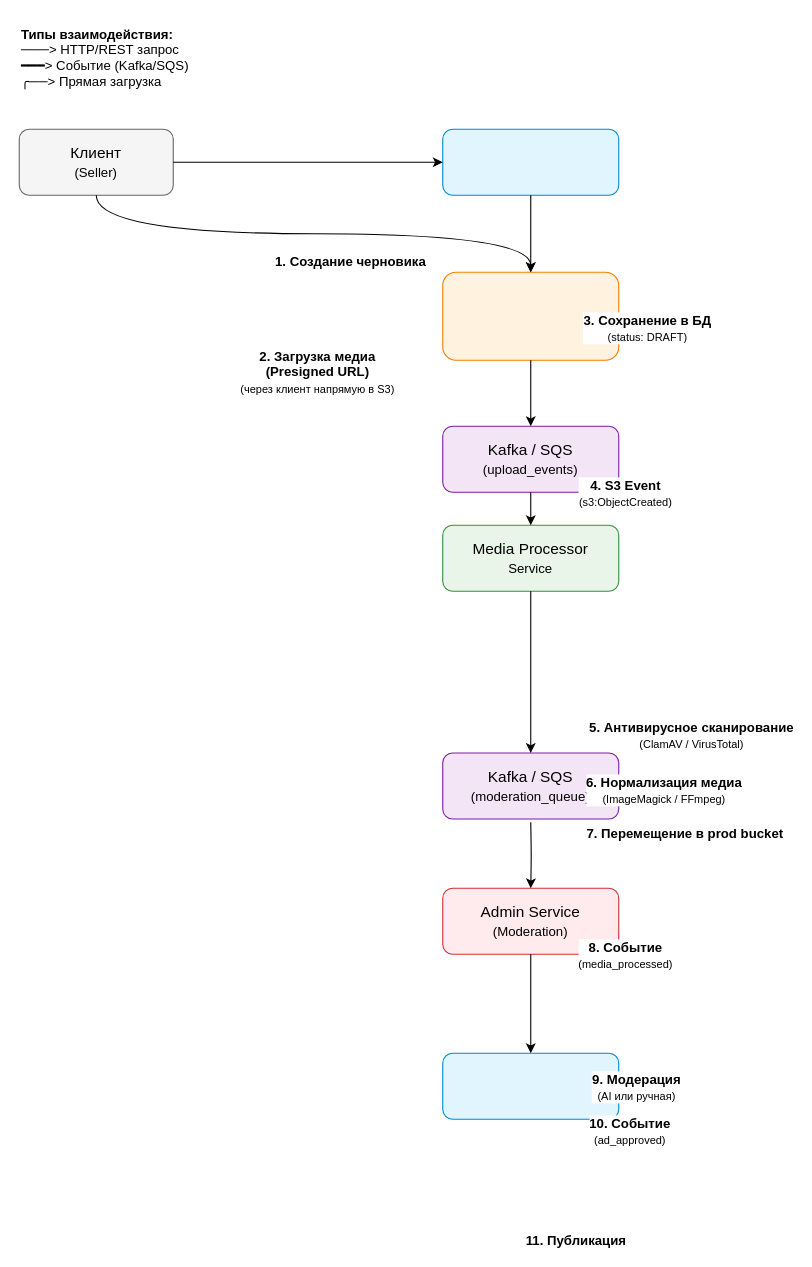
Image size: 812x1267. Some labels were removed from this diagram. The centre of each missing label's shape, as x and y in pixels:
Advertisement Service: [530,161]
Advertisement Service (status: ACTIVE): [530,1085]
AWS S3 / YC Object Storage (temp bucket): [530,315]
